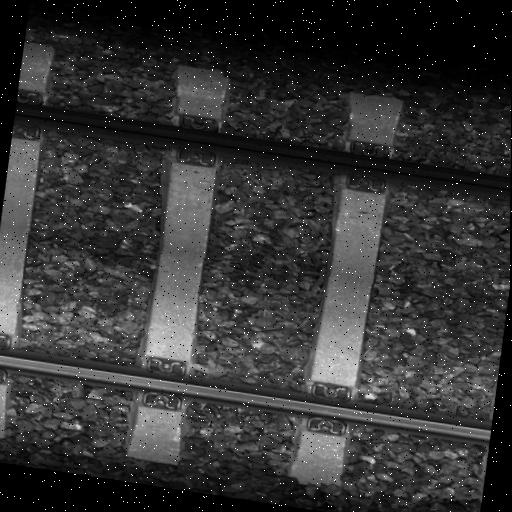sleeper: (125, 62, 230, 464), (299, 89, 393, 488), (0, 39, 57, 439)
